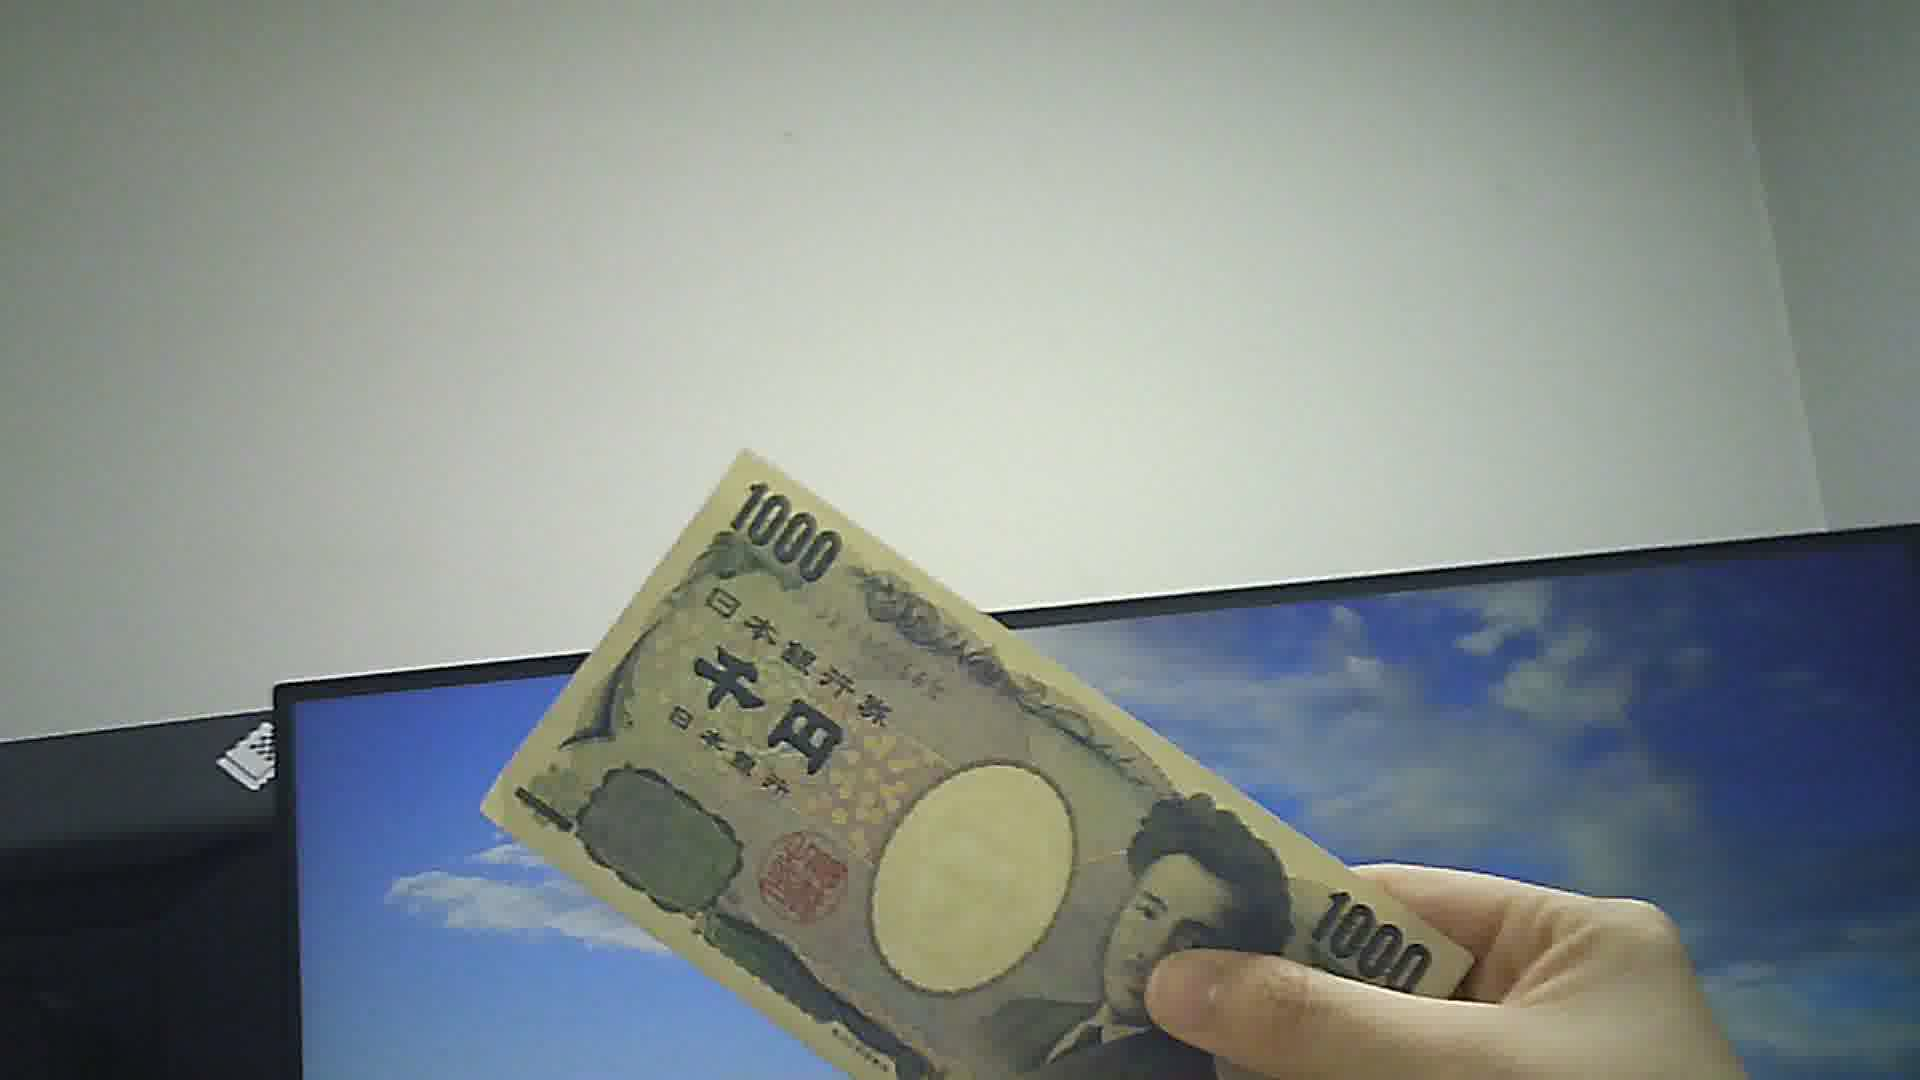1,000 Yen: (492, 426, 1468, 1079)
